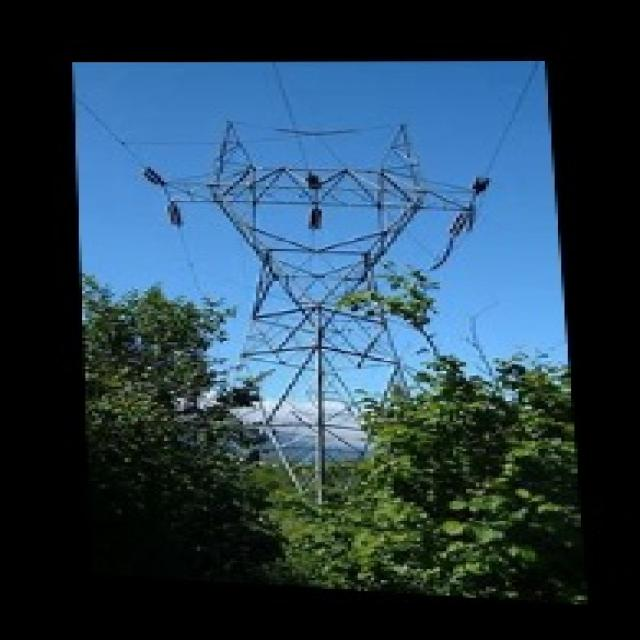utility poles: (334, 282, 513, 456), (182, 288, 292, 462)
